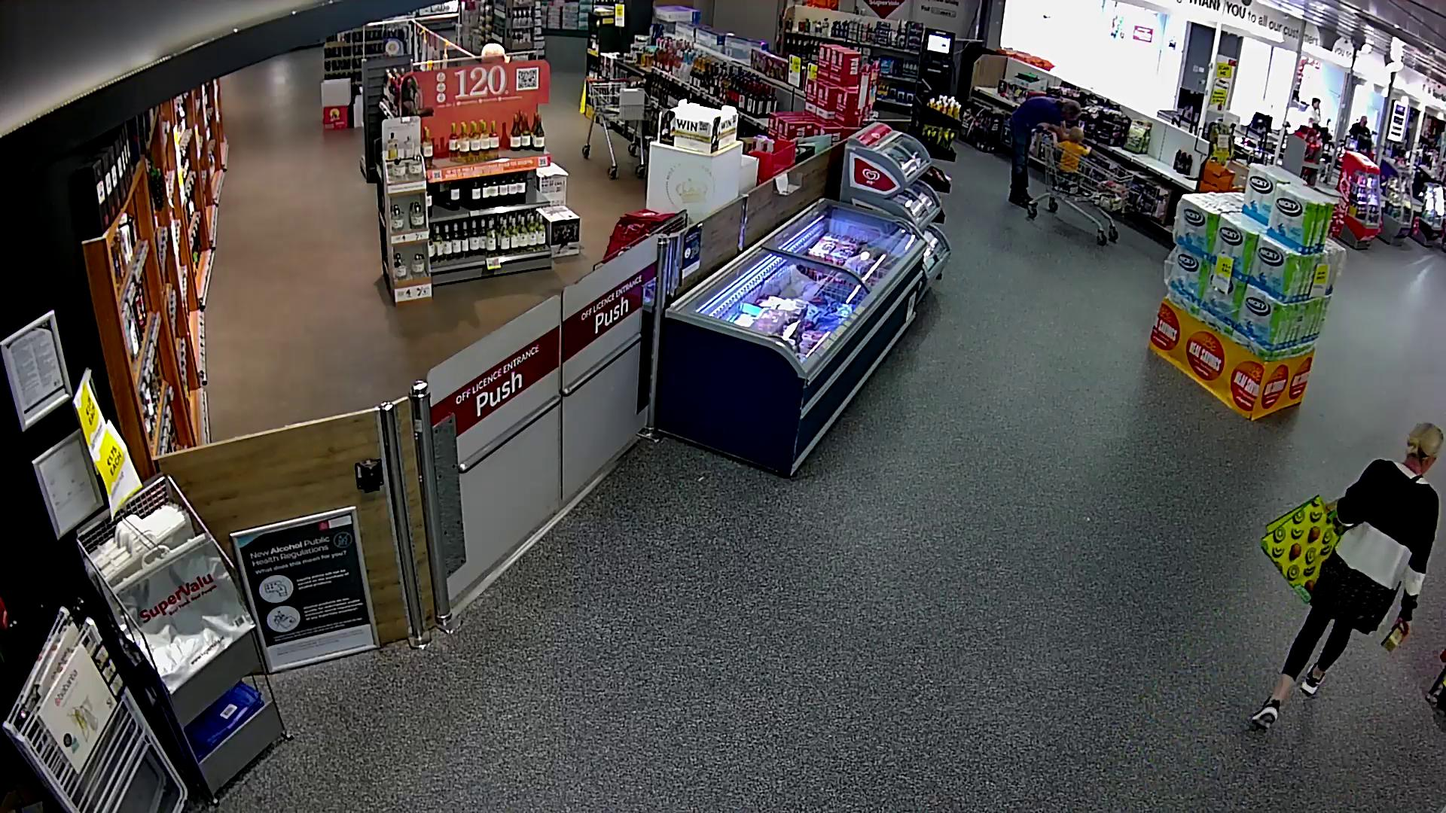carrying-item: (1381, 622, 1407, 652)
filled-shopping-bags: (1260, 494, 1346, 601)
person: (1252, 423, 1444, 733)
person with carrying item-s- and shopping bag-s-: (1252, 423, 1444, 731)
